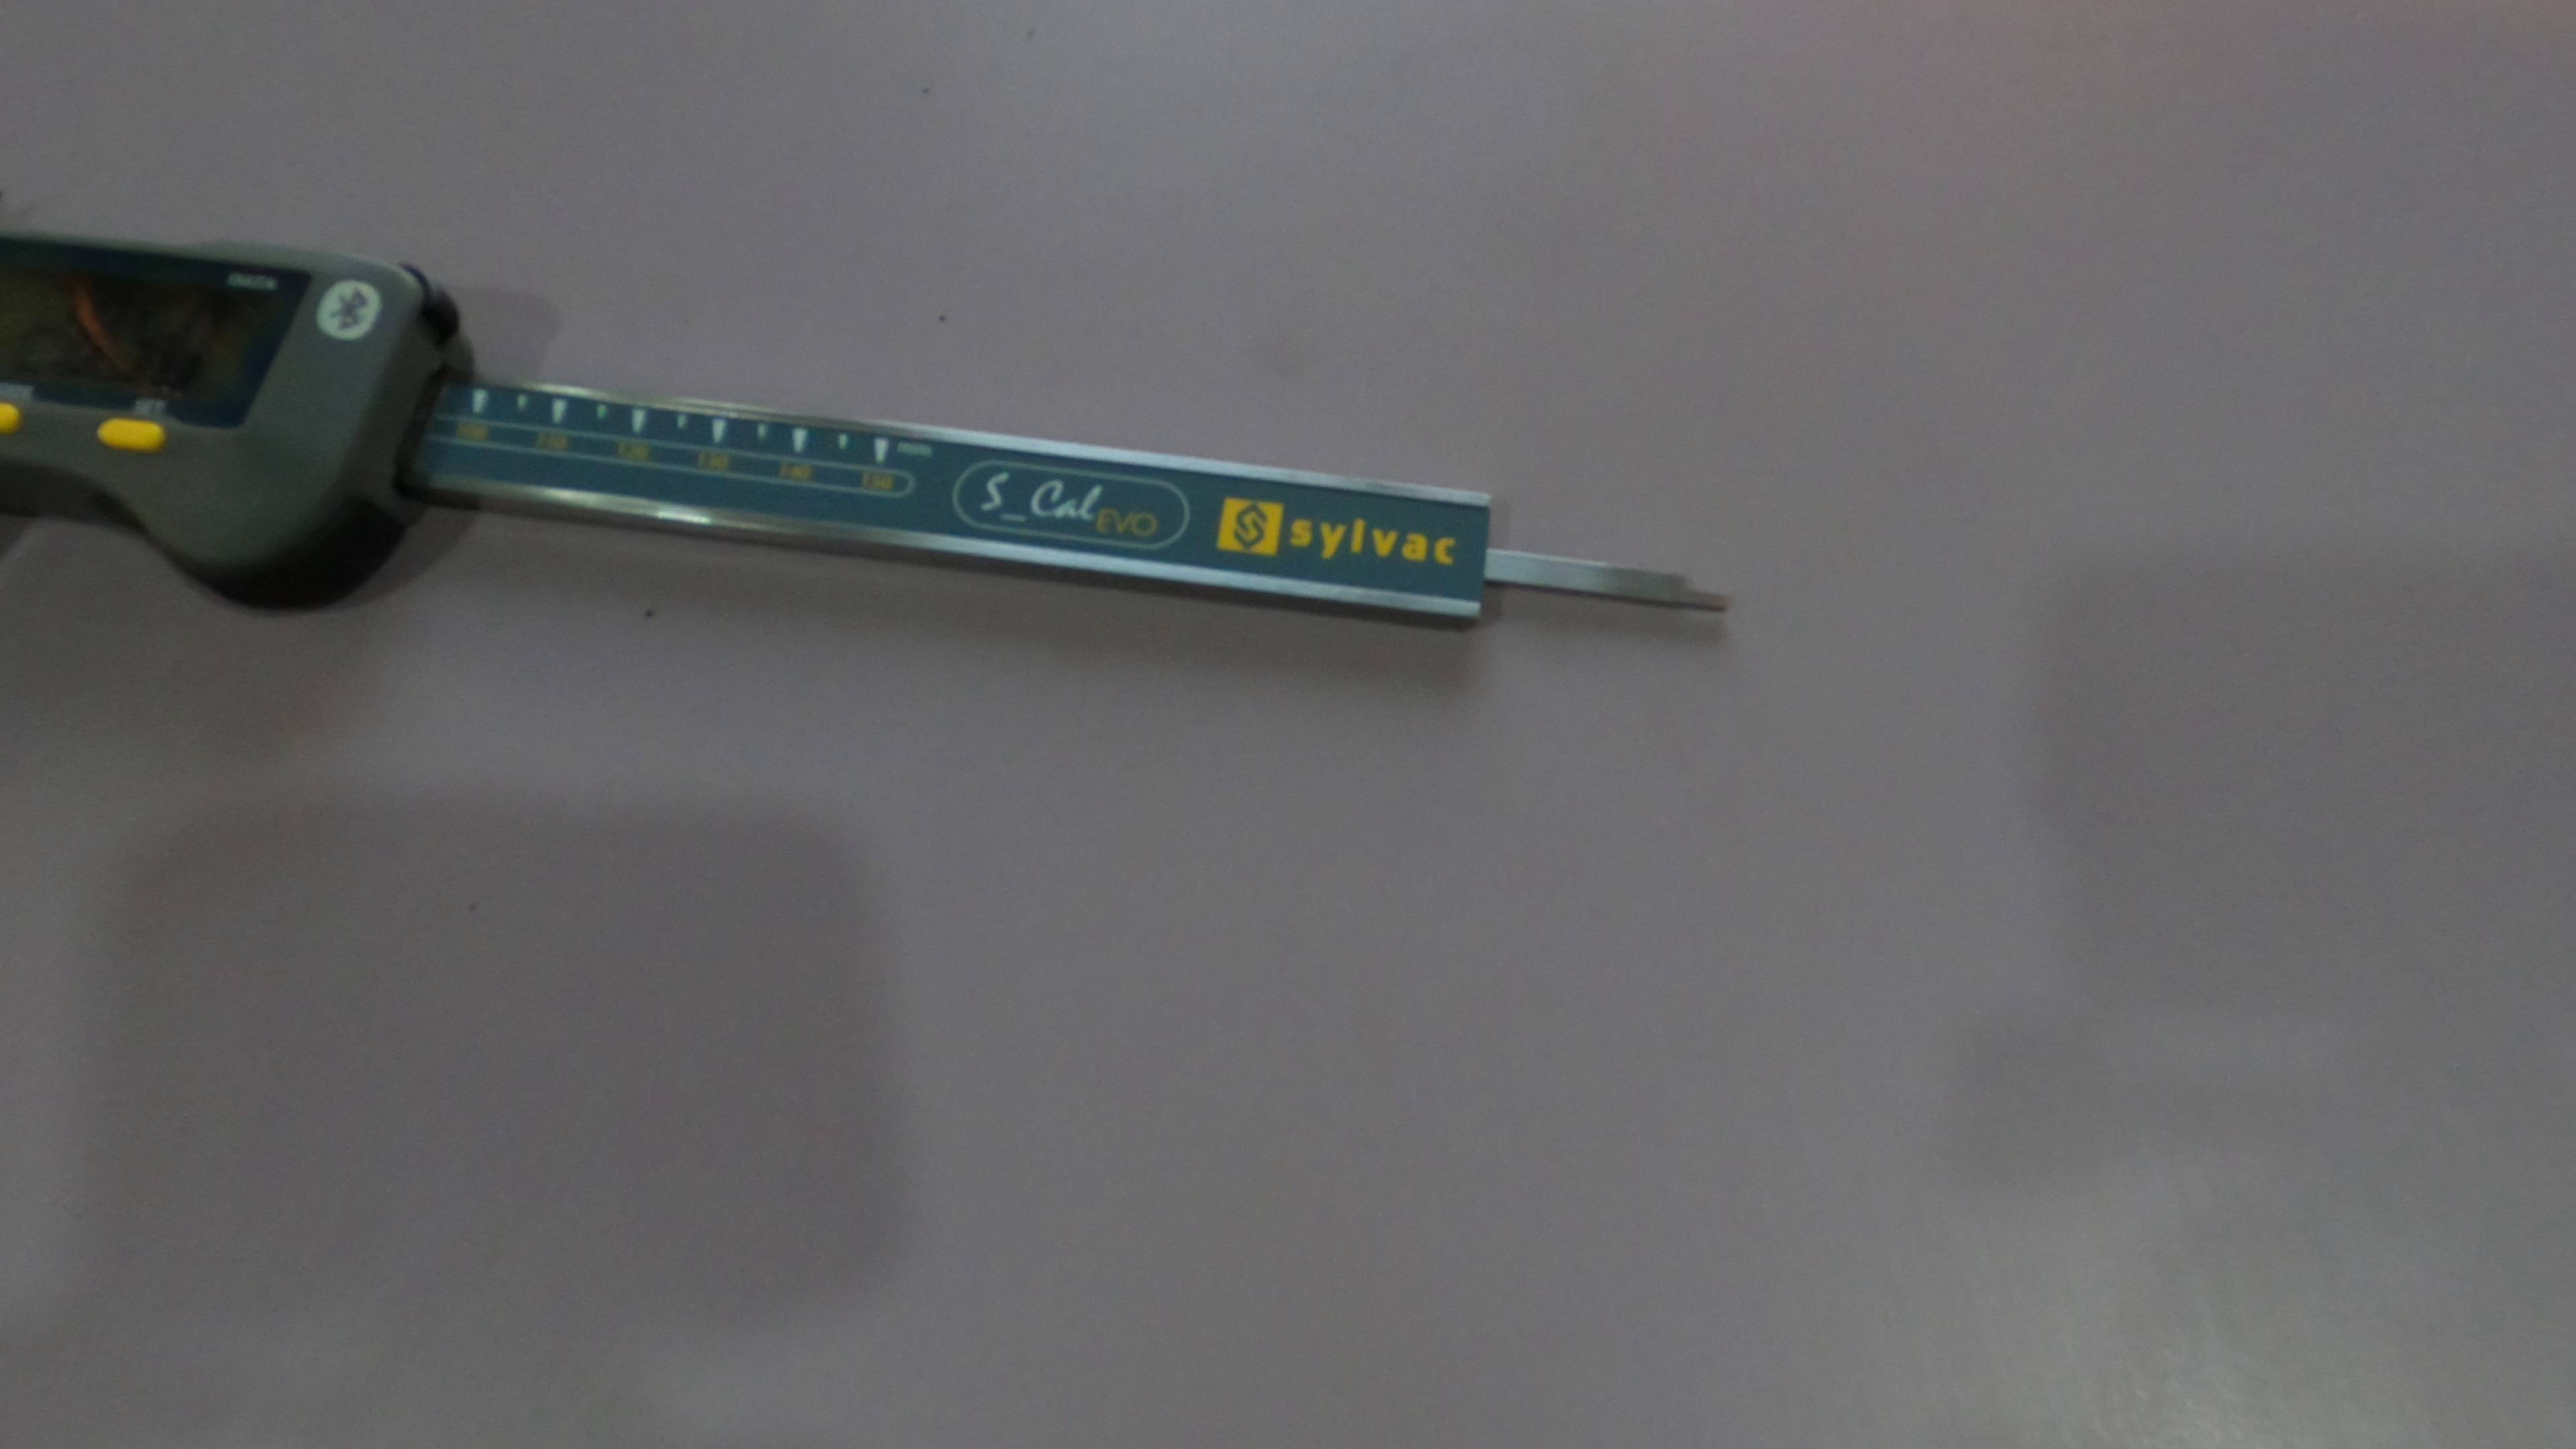vernier_caliper: (7, 145, 1744, 653)
